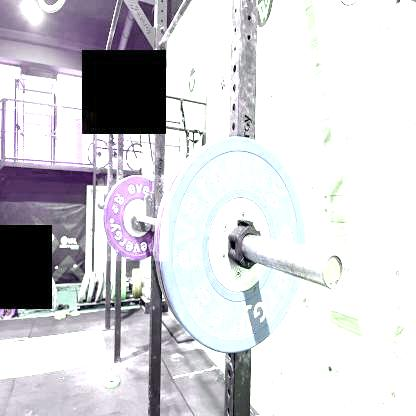barbell: (160, 135, 307, 354), (105, 176, 170, 262)
